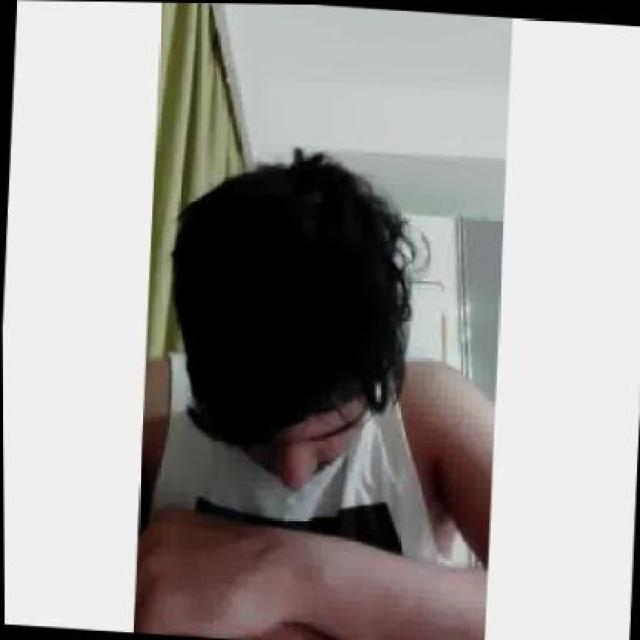inattentif: (173, 143, 378, 494)
